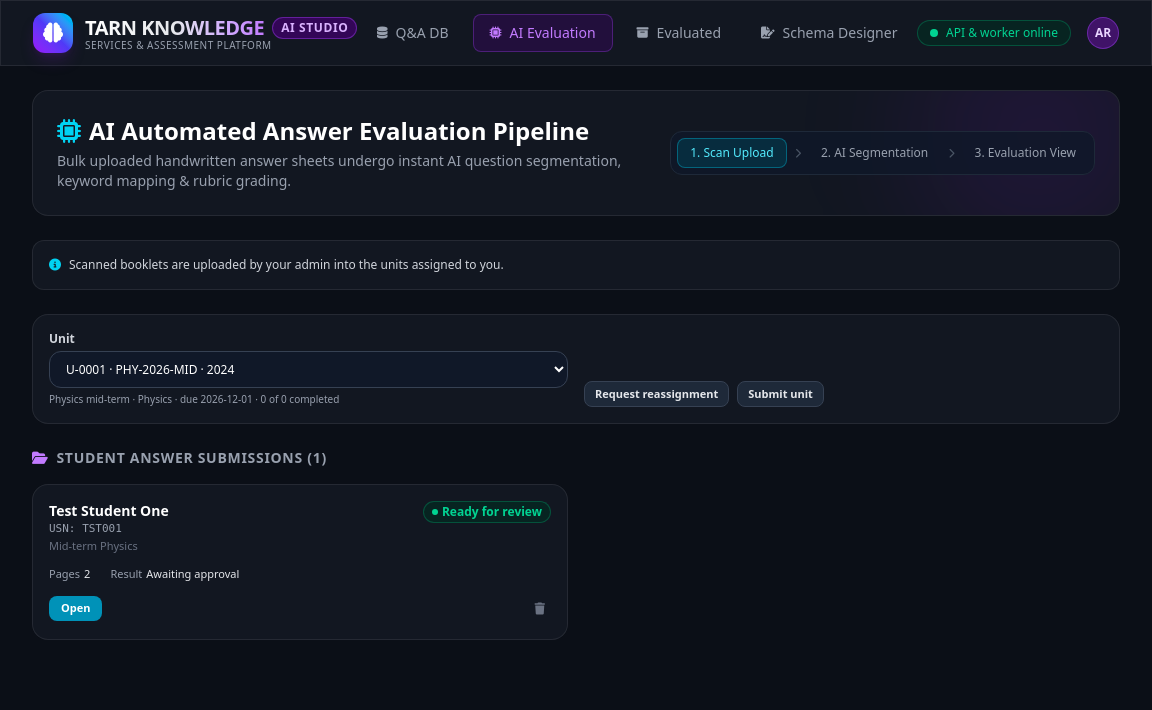
Test: step 1: the booklets of my units › asks the admin to move my unit, with a reason, and lists my requests
The image size is (1152, 710).
Click the button "Request reassignment": [657, 394] box [584,380,729,407]
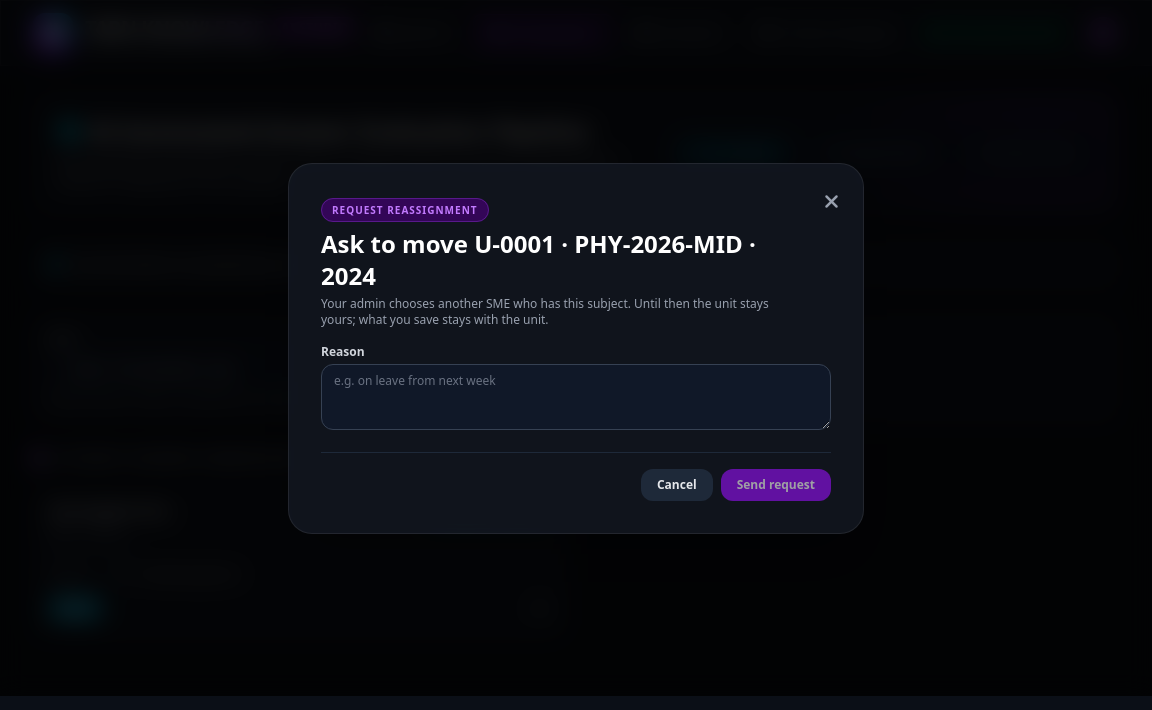
Expected: the button "Send request" is disabled, [721,468,831,500]
In the text box labelled "Reason": [576, 396] box [321,364,831,430], type "Exams clash"
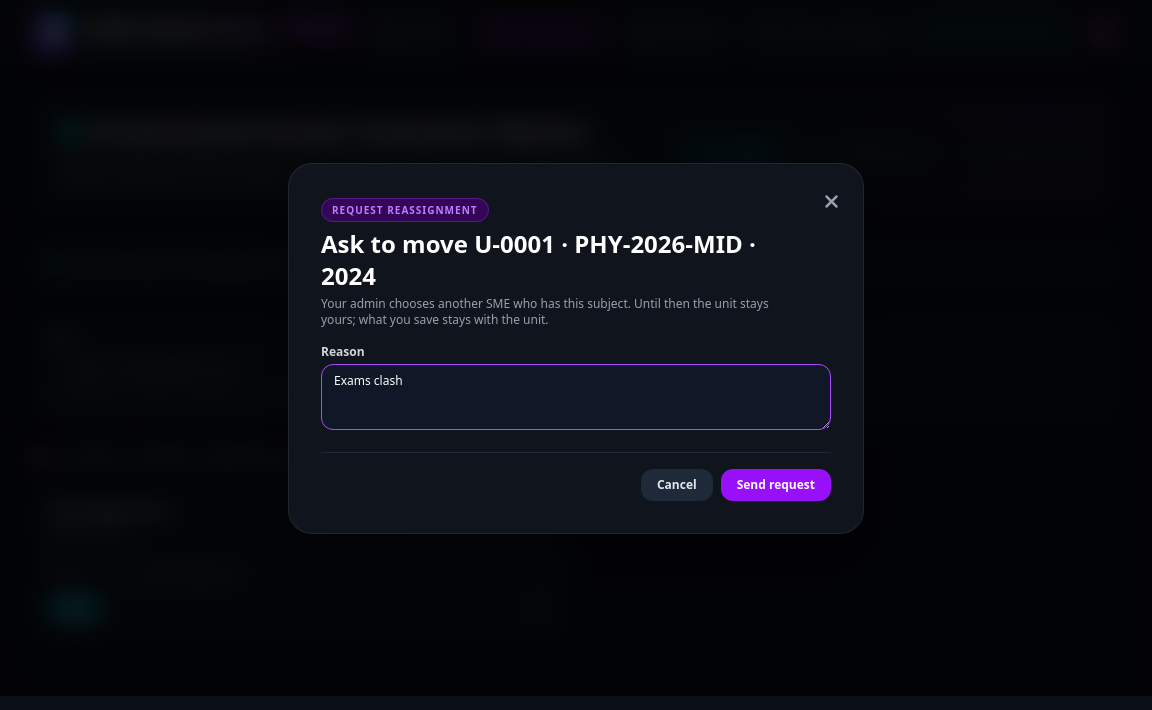
Click the button "Send request": [776, 484] box [721,468,831,500]
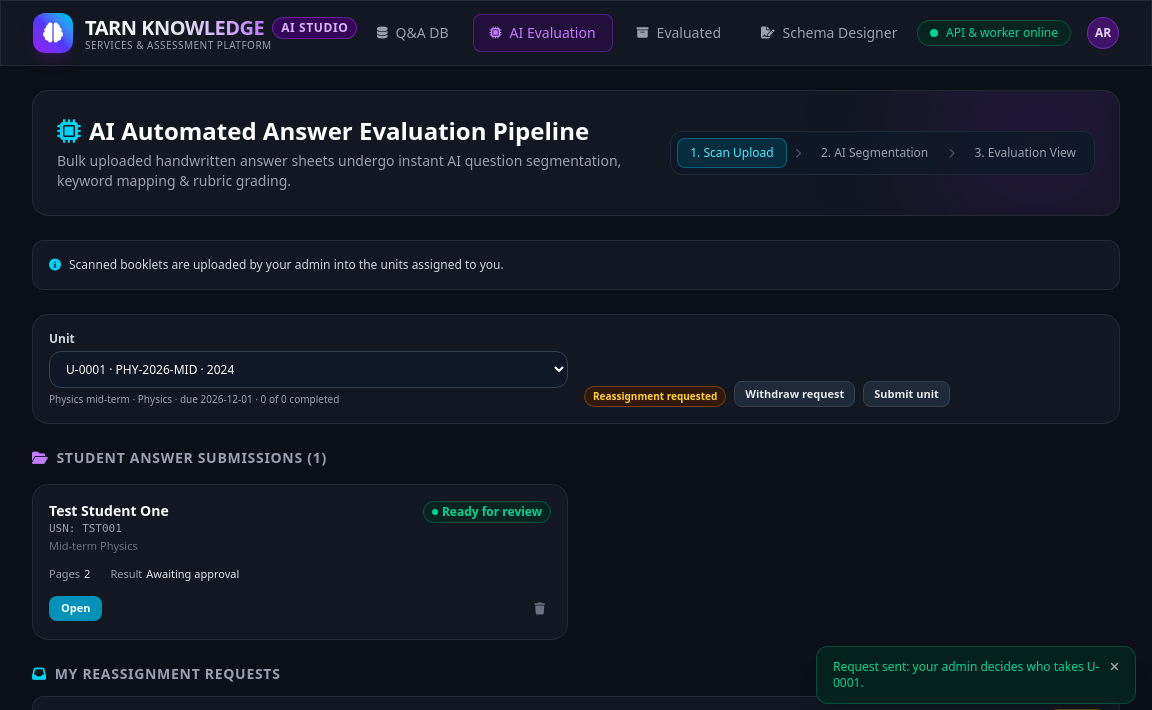
Expected: the text "Request sent: your admin decides who takes U-0001." is shown, [833,659,1102,691]
Expected: the text "Reassignment requested" is shown, [584,386,726,407]
Click the button "Withdraw request": [795, 394] box [734,380,855,407]
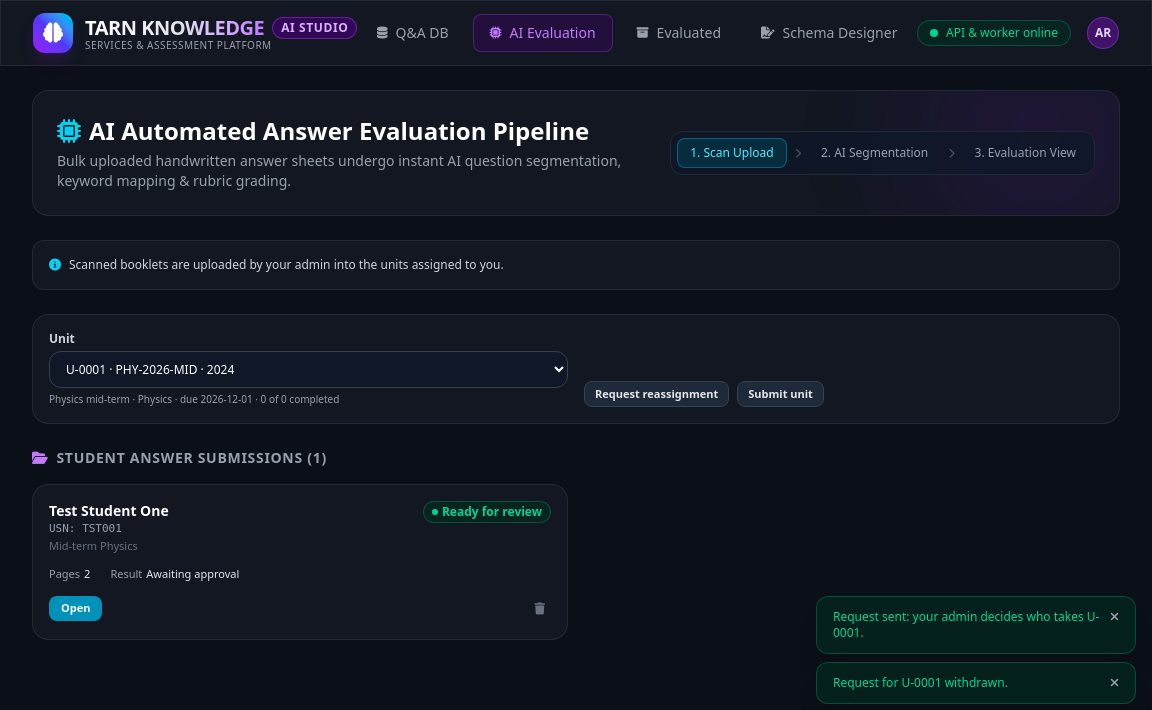
Expected: the text "Request for U-0001 withdrawn." is shown, [833,674,1008,691]
Expected: the button "Request reassignment" is shown, [584,380,729,407]
